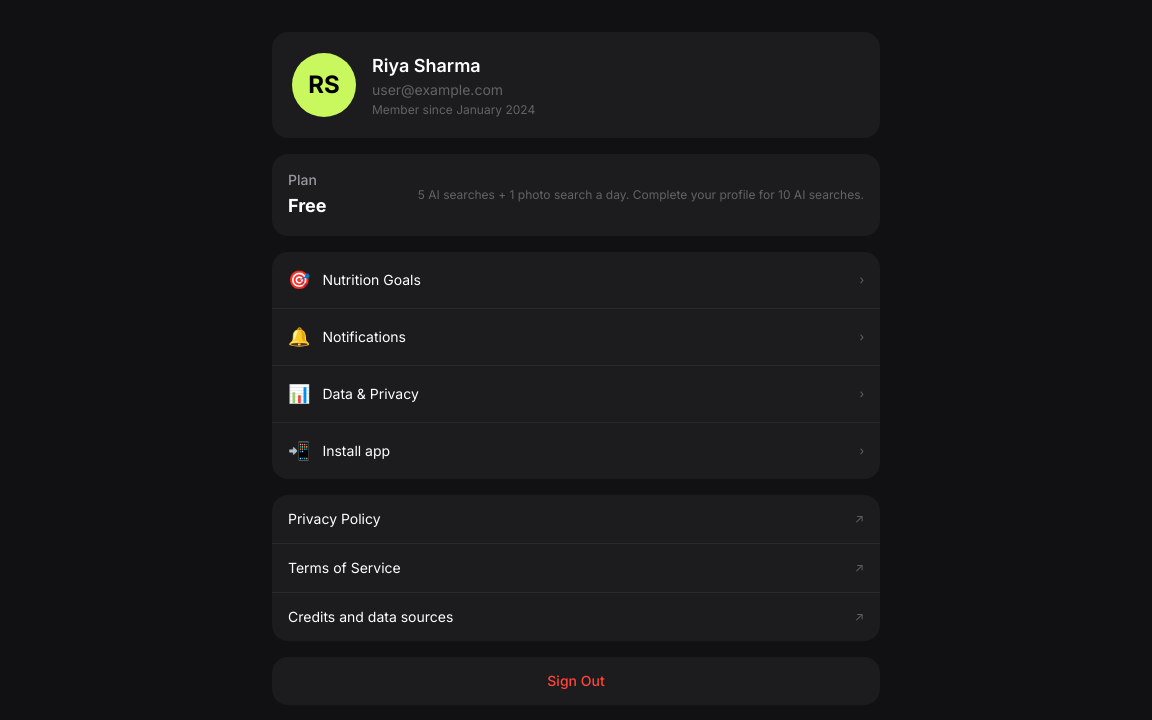
ProfileTab — settings rows › Nutrition Goals row is clickable and opens the modal
Expected: the text "Riya Sharma" is shown, [372,55,481,76]
Click the text "Nutrition Goals". click: {"x": 372, "y": 280}
box: [322,271,421,288]
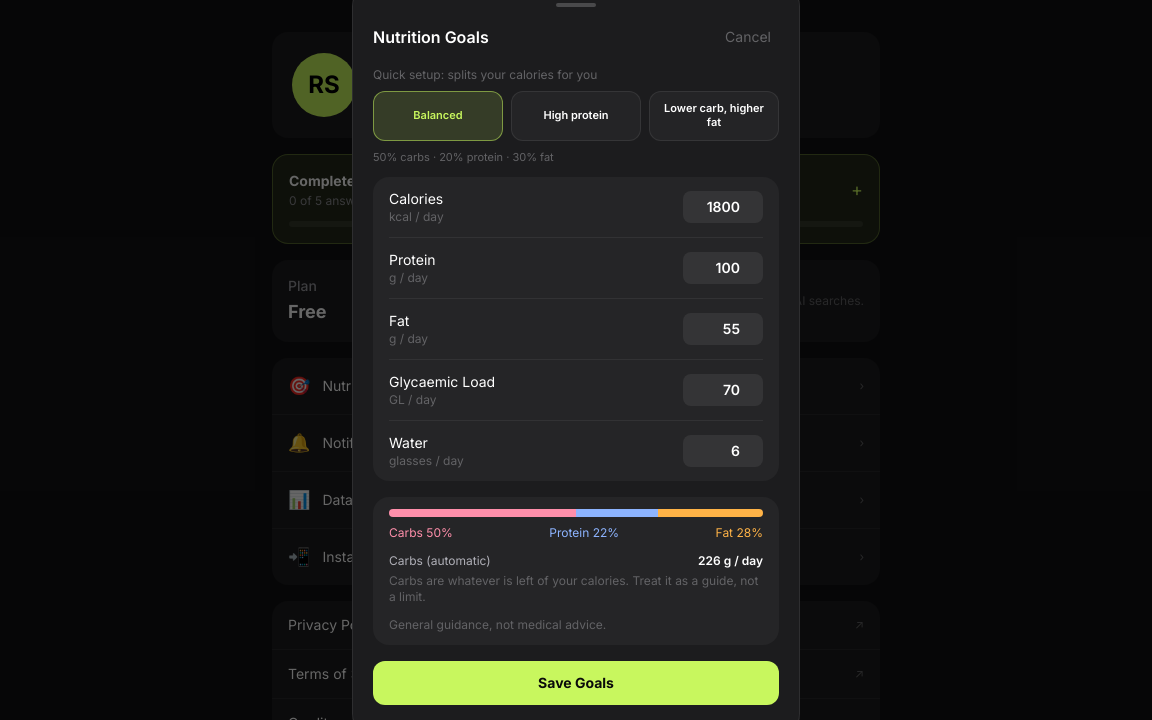
Expected: the button "Save Goals" is shown, [373,661,779,705]
